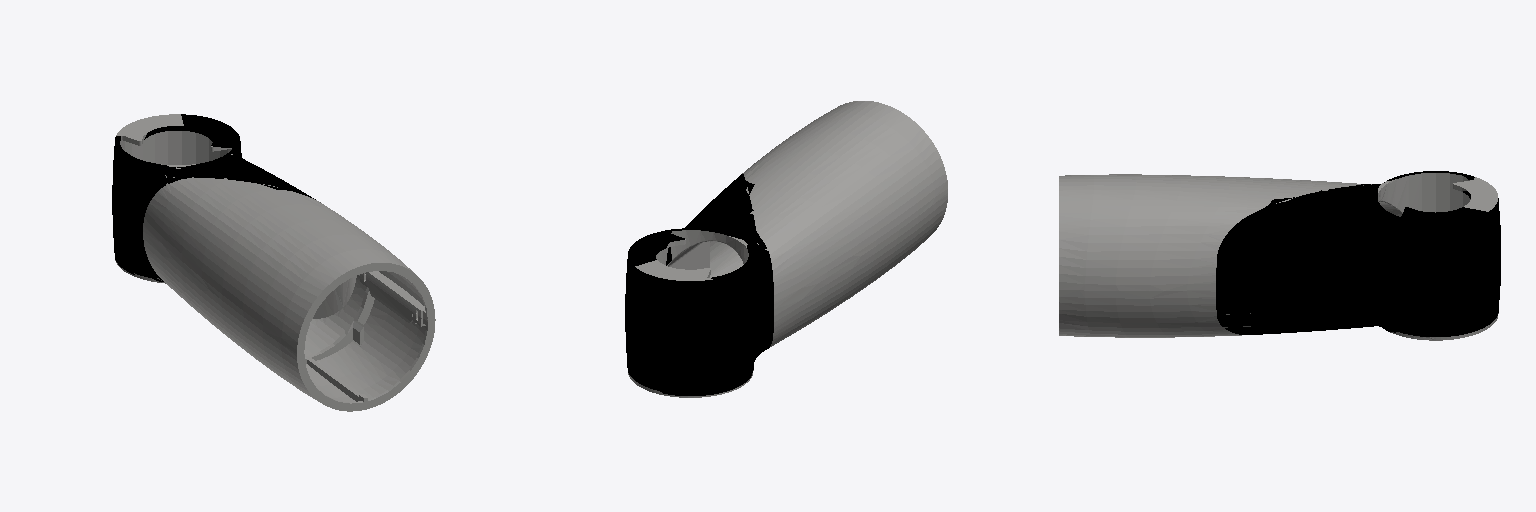
The picture shows the model from 3 angles: view 1: azimuth 30°, elevation 25°; view 2: azimuth 150°, elevation 25°; view 3: azimuth 270°, elevation 25°; orthographic projection.
Visible parts, largest first — view 1: left_arm_link3; view 2: left_arm_link3; view 3: left_arm_link3.
Part boxes in pixels (x1,y1,x2,y2): left_arm_link3: (112, 114, 435, 411); left_arm_link3: (625, 101, 947, 397); left_arm_link3: (1059, 171, 1500, 340).
Size of the model in its own units: 0.0953 by 0.0925 by 0.2539.
Materials: 1 (1 with a texture image).